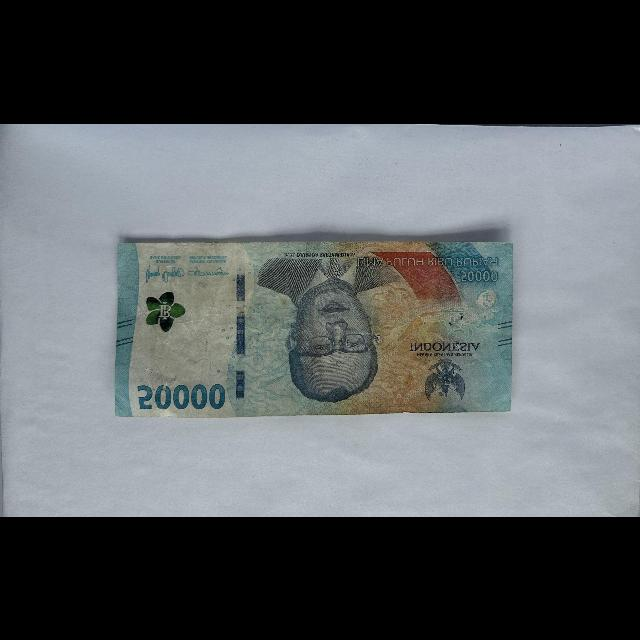Palsu-50k: (114, 239, 515, 418)
Tinta-Palsu-50k: (146, 291, 186, 332)
